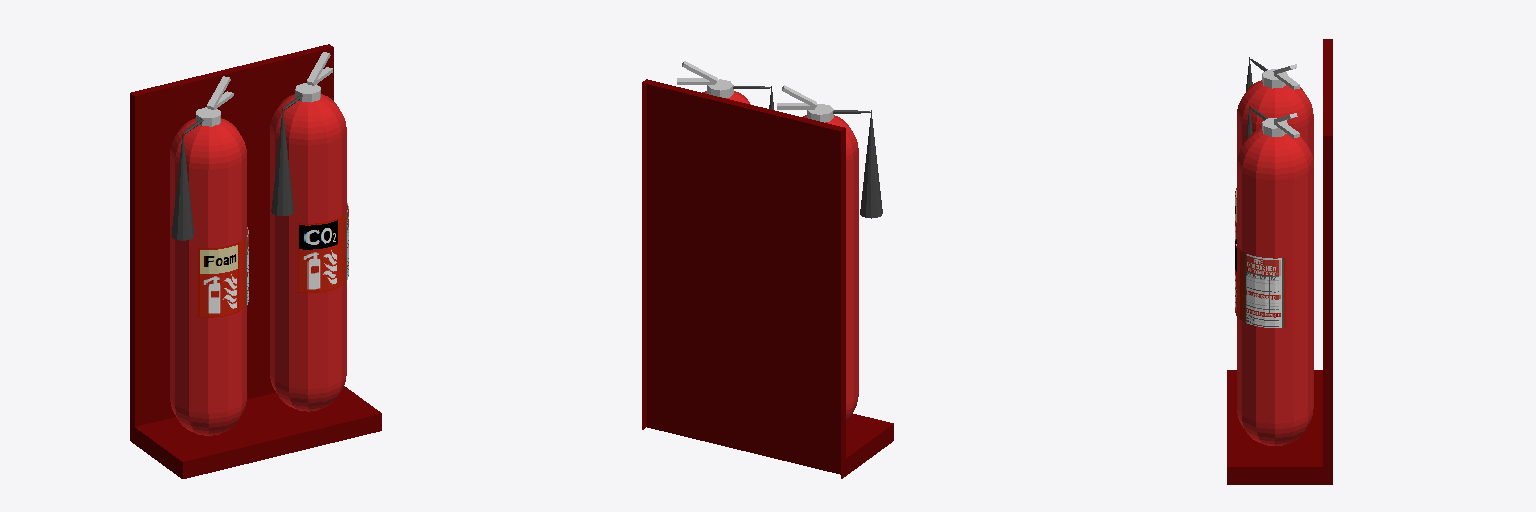
3 renders of one model, left to right at view 1: azimuth 30°, elevation 25°; view 2: azimuth 150°, elevation 25°; view 3: azimuth 270°, elevation 25°, orthographic.
Parts seen in each view (by area): view 1: Holder_back, Merged_Meshes1, Merged_Meshes, Holder_base; view 2: Holder_back, Merged_Meshes1, Holder_base, Merged_Meshes; view 3: Merged_Meshes, Holder_base, Holder_back, Merged_Meshes1.
Boxes of the visible parts, x1=… form: Holder_back: x1=130, y1=44, x2=333, y2=443; Merged_Meshes1: x1=170, y1=76, x2=248, y2=435; Merged_Meshes: x1=270, y1=52, x2=348, y2=411; Holder_base: x1=135, y1=386, x2=381, y2=478; Holder_back: x1=642, y1=79, x2=845, y2=478; Merged_Meshes1: x1=777, y1=85, x2=882, y2=421; Holder_base: x1=846, y1=413, x2=893, y2=475; Merged_Meshes: x1=677, y1=61, x2=773, y2=109; Merged_Meshes: x1=1235, y1=106, x2=1313, y2=445; Holder_base: x1=1227, y1=370, x2=1322, y2=484; Holder_back: x1=1323, y1=39, x2=1332, y2=484; Merged_Meshes1: x1=1235, y1=57, x2=1313, y2=239.
Size of the model in its own units: 0.6 by 1.03 by 0.275.
6 materials, 2 textured.